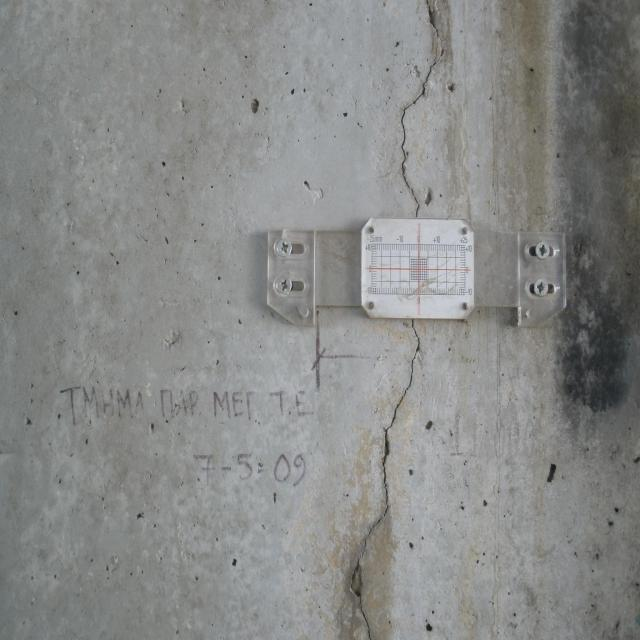vertical crack: (347, 318, 423, 640), (397, 0, 446, 218)
